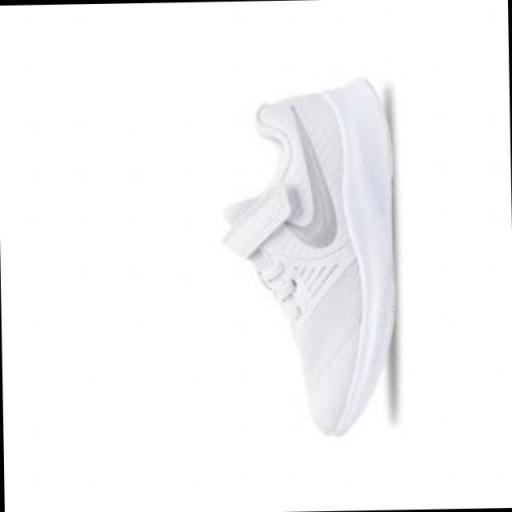Nike: (282, 98, 340, 249)
